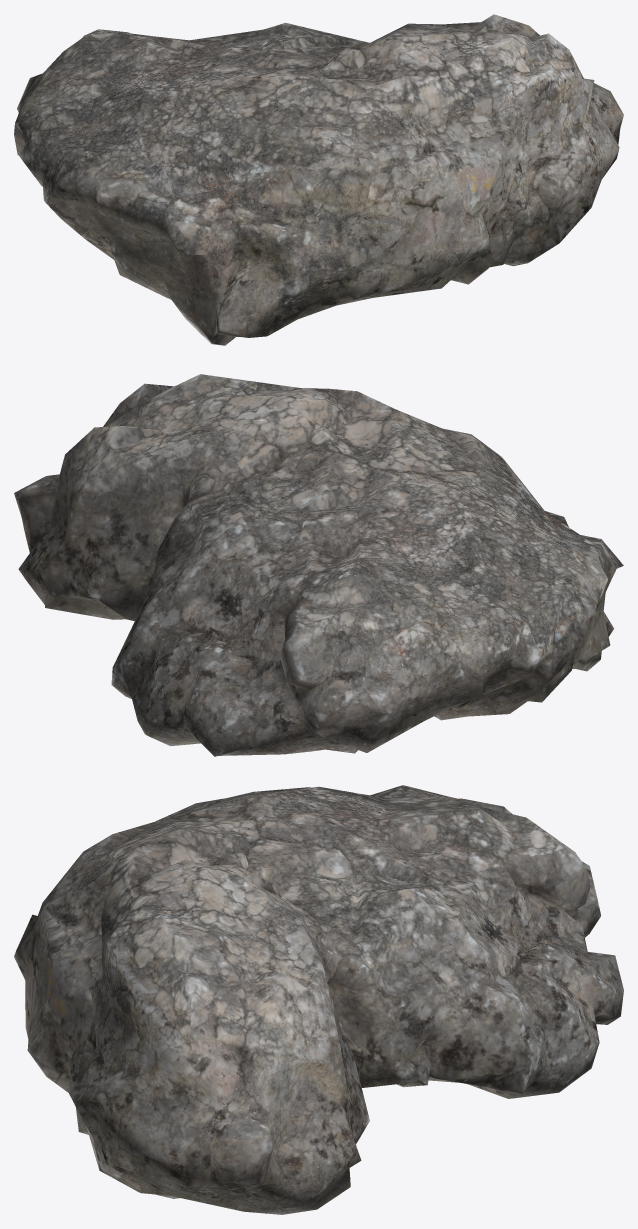
File: wfdqbixr_tier_2.gltf
3 renders of one model, top to bottom at view 1: azimuth 30°, elevation 25°; view 2: azimuth 150°, elevation 25°; view 3: azimuth 270°, elevation 25°, orthographic. The views are drawn at different scales.
Parts seen in each view (by area): view 1: wfdqbixr_LOD0_TIER2_000; view 2: wfdqbixr_LOD0_TIER2_000; view 3: wfdqbixr_LOD0_TIER2_000.
Boxes of the visible parts, x1,y1,x2,y2 form: wfdqbixr_LOD0_TIER2_000: [14, 14, 623, 345]; wfdqbixr_LOD0_TIER2_000: [14, 374, 623, 756]; wfdqbixr_LOD0_TIER2_000: [14, 785, 623, 1214].
Size of the model in its own units: 0.2157 by 0.0893 by 0.1762.
Materials: 1 (1 with a texture image).
